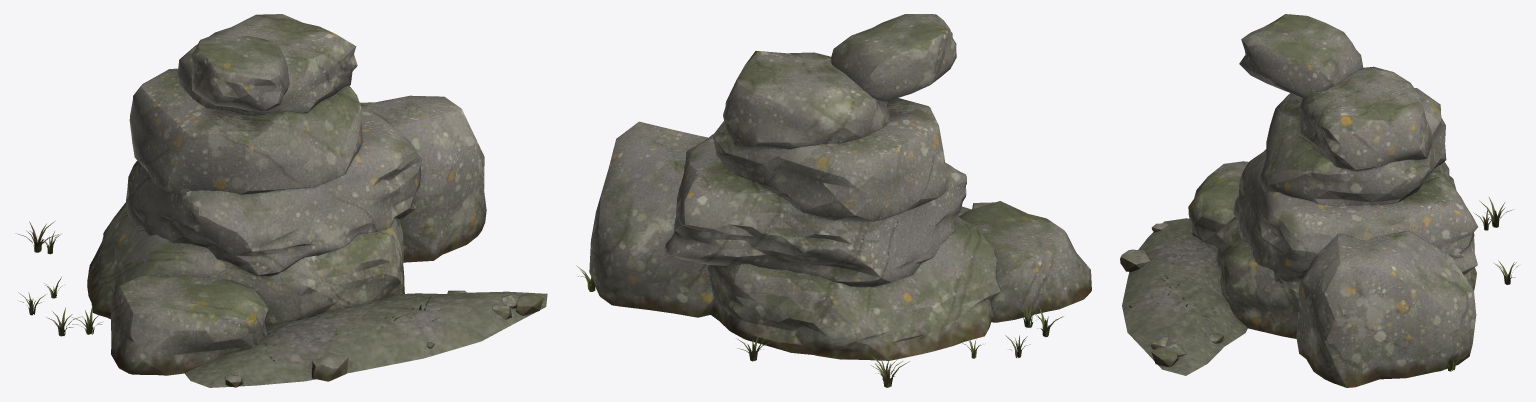
File: rock_outcrop_b.glb
The picture shows the model from 3 angles, left to right: view 1: azimuth 30°, elevation 25°; view 2: azimuth 150°, elevation 25°; view 3: azimuth 270°, elevation 25°; orthographic projection. The views are drawn at different scales.
Parts seen in each view (by area): view 1: rock_outcrop_b_LOD0; view 2: rock_outcrop_b_LOD0; view 3: rock_outcrop_b_LOD0.
Part boxes in pixels (x1,y1,x2,y2): rock_outcrop_b_LOD0: [15, 14, 547, 387]; rock_outcrop_b_LOD0: [576, 14, 1091, 387]; rock_outcrop_b_LOD0: [1120, 14, 1518, 387].
Size of what is drawn, in the model's own units: 6.93 by 3.85 by 5.91.
1 material, 1 textured.
